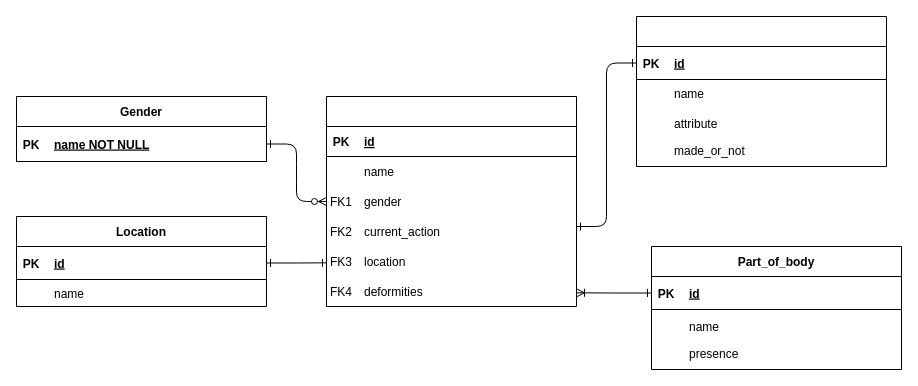
The diagram is 918 pixels wide and 386 high, and some of its shapes have lost their labels. Here are the shapes that lost their labels. From the top down, the box of each, then its label:
(636, 16, 886, 166): Actions
(326, 96, 576, 306): person
